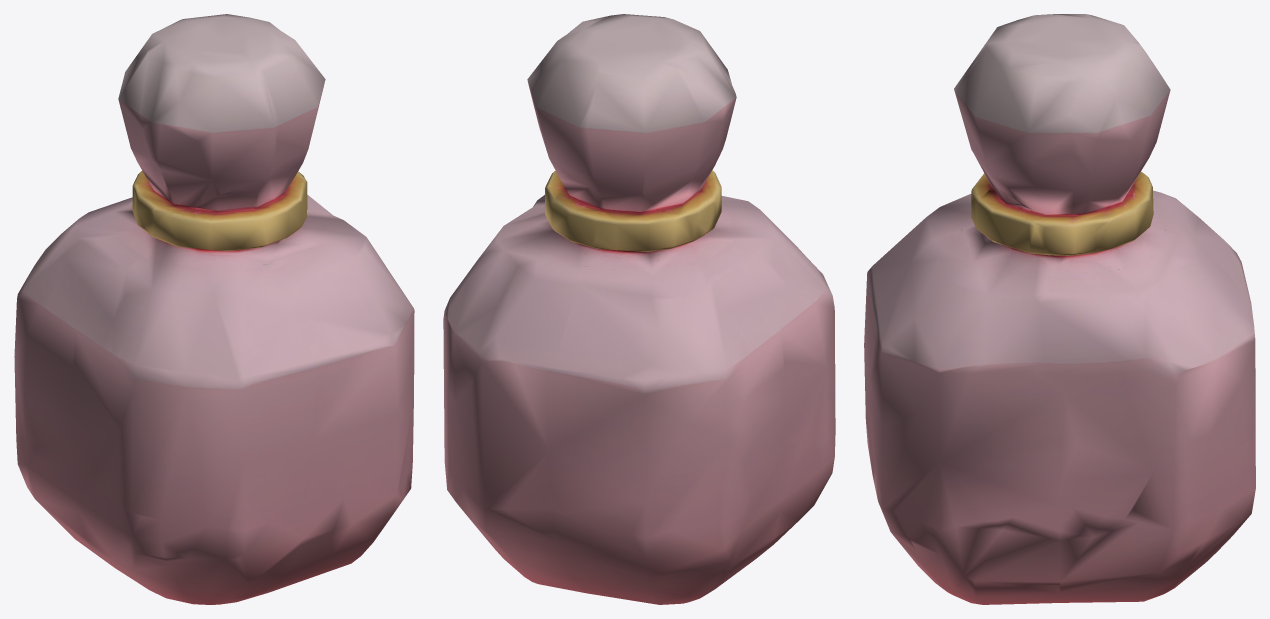
Rendered from perfume.glb.
The picture shows the model from 3 angles, left to right: view 1: azimuth 30°, elevation 25°; view 2: azimuth 150°, elevation 25°; view 3: azimuth 270°, elevation 25°; orthographic projection. The views are drawn at different scales.
Parts seen in each view (by area): view 1: tripo_node_a92bb722-9b48-46f6-a7d3-d87b8d830736; view 2: tripo_node_a92bb722-9b48-46f6-a7d3-d87b8d830736; view 3: tripo_node_a92bb722-9b48-46f6-a7d3-d87b8d830736.
Boxes of the visible parts, <box> form: tripo_node_a92bb722-9b48-46f6-a7d3-d87b8d830736: <box>14,14,414,604</box>; tripo_node_a92bb722-9b48-46f6-a7d3-d87b8d830736: <box>443,14,835,604</box>; tripo_node_a92bb722-9b48-46f6-a7d3-d87b8d830736: <box>864,14,1255,604</box>.
Bounding box in the file's own units: 0.5889 × 0.9996 × 0.6743.
1 material, 1 textured.
